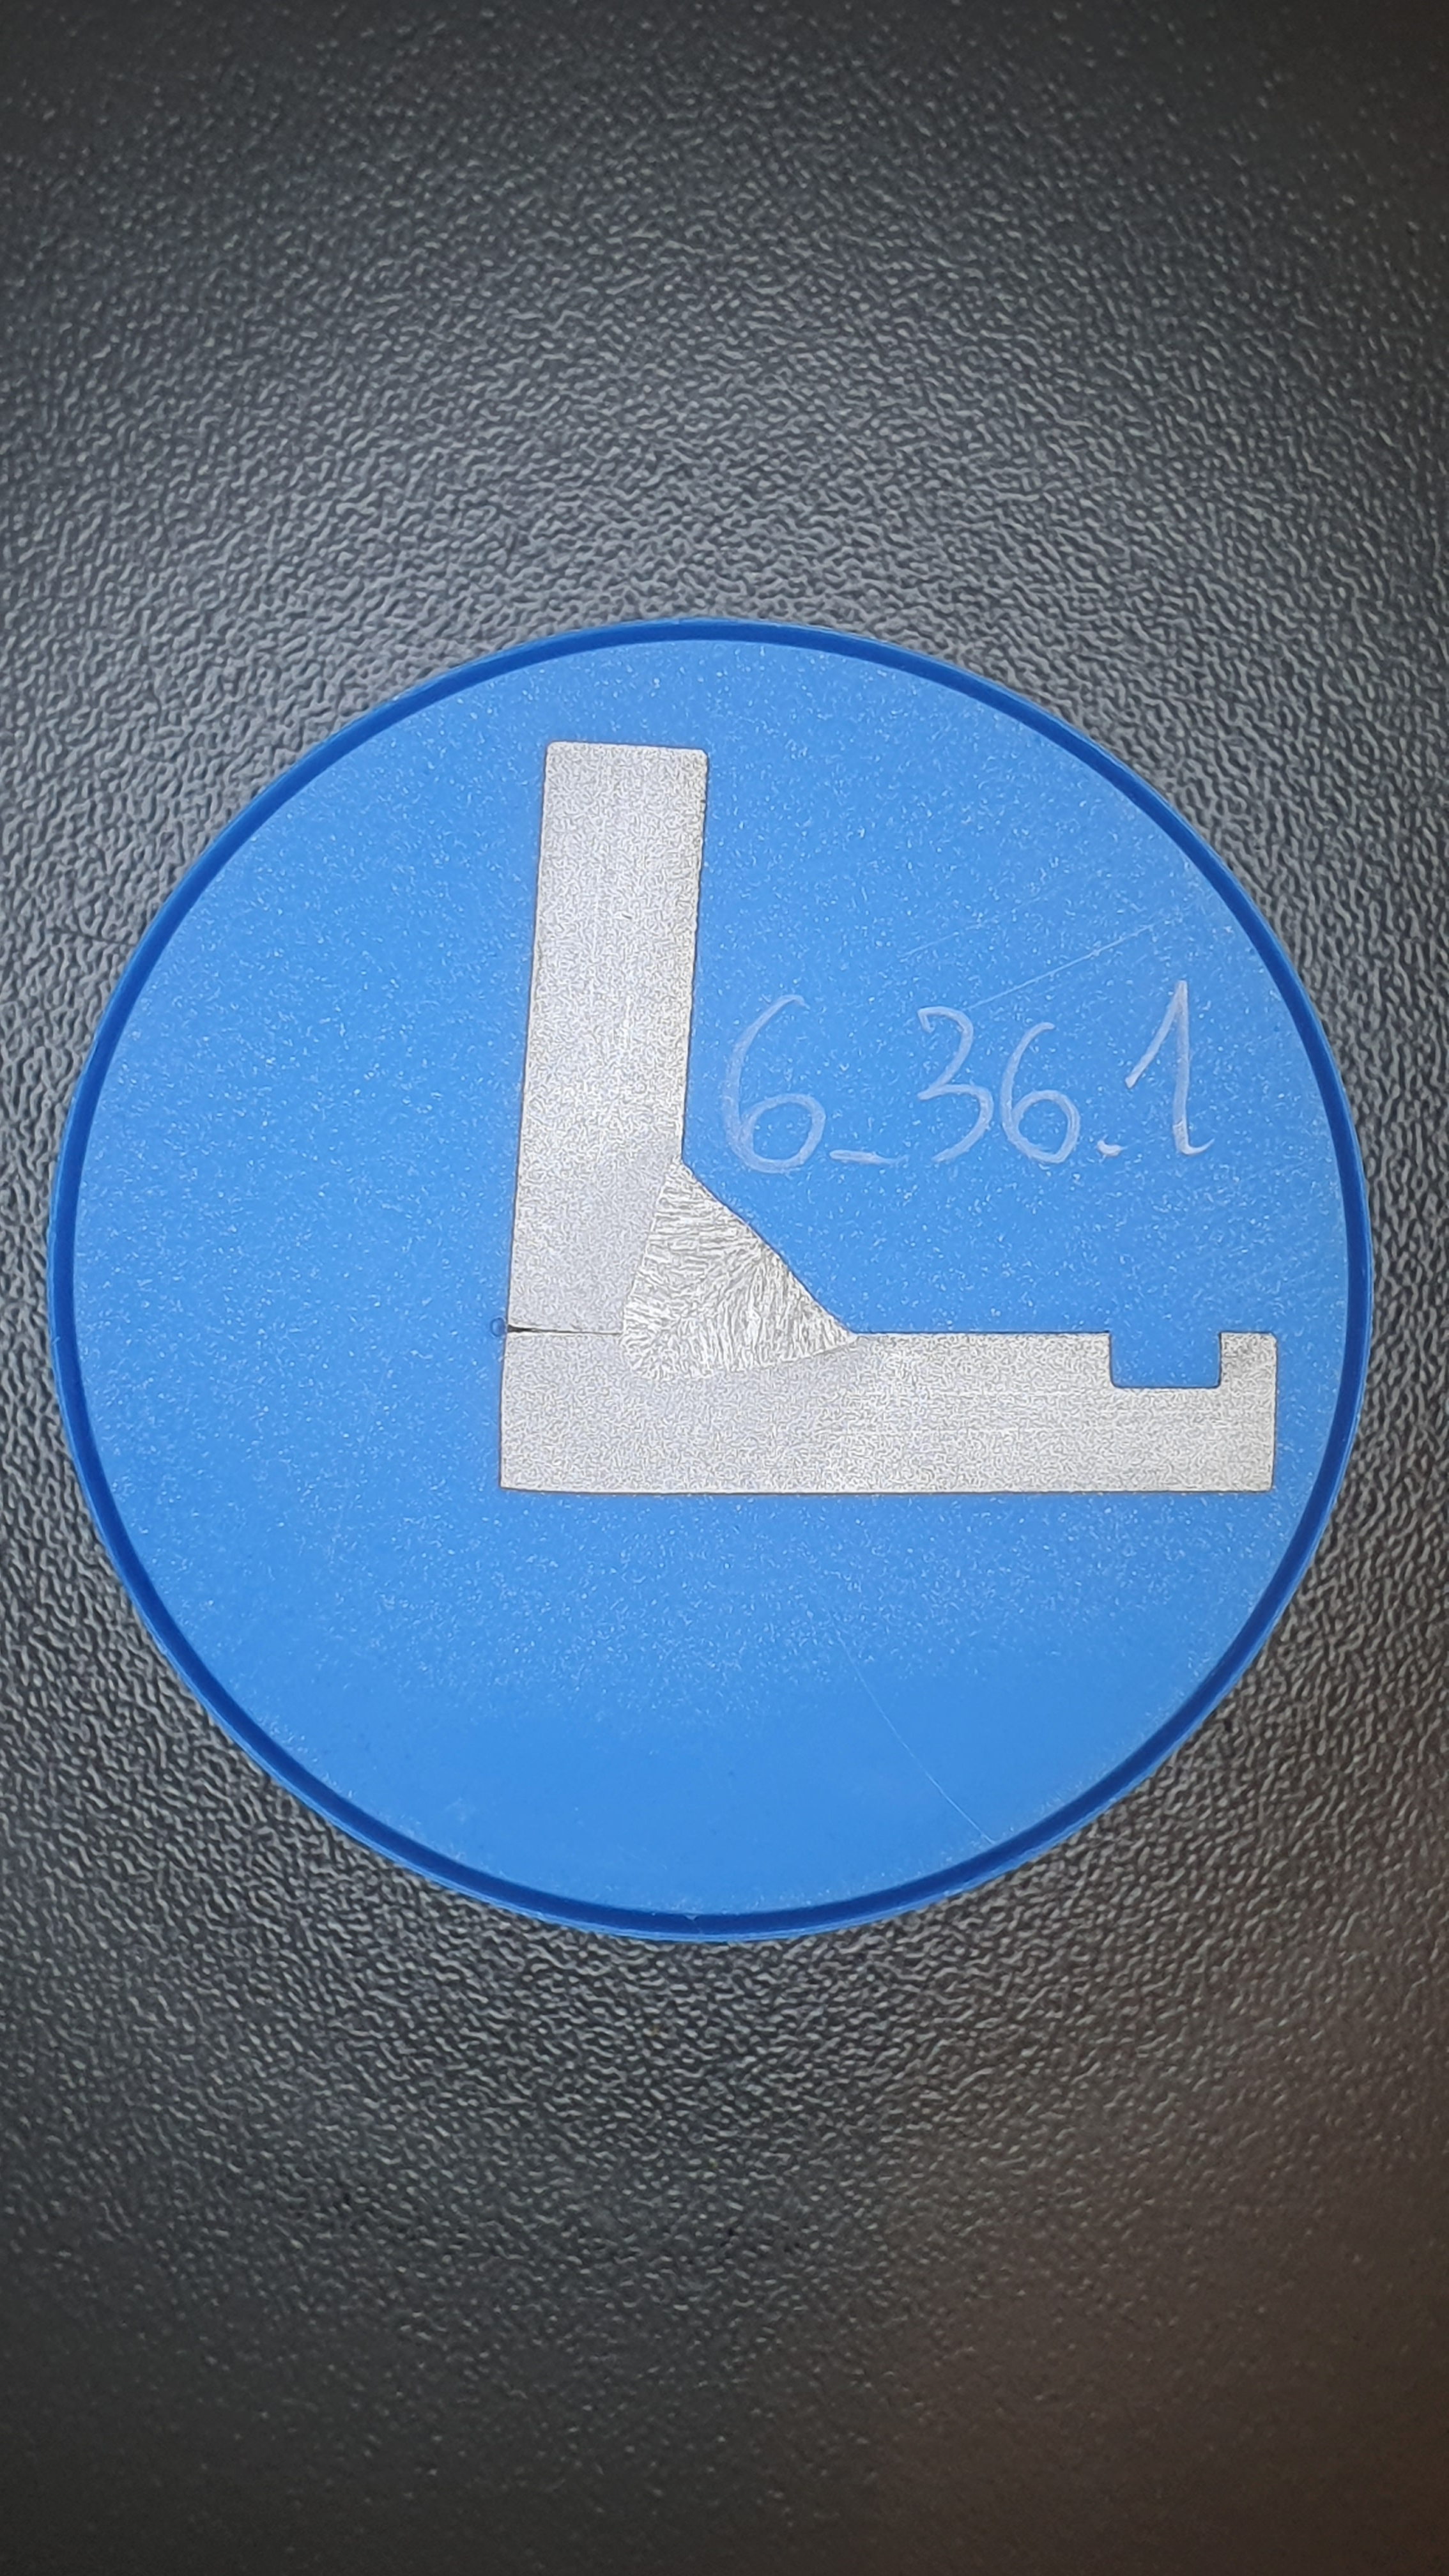Fusion: (617, 1154, 856, 1380)
Hintergrund: (73, 637, 1341, 1913)
Metall: (499, 740, 1277, 1495)
Nebenbereich: (557, 1136, 883, 1426)
